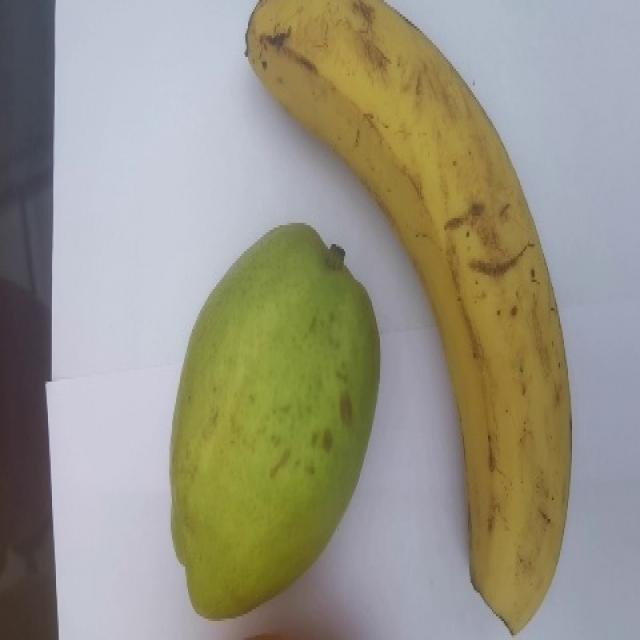Banana: (243, 0, 578, 634)
